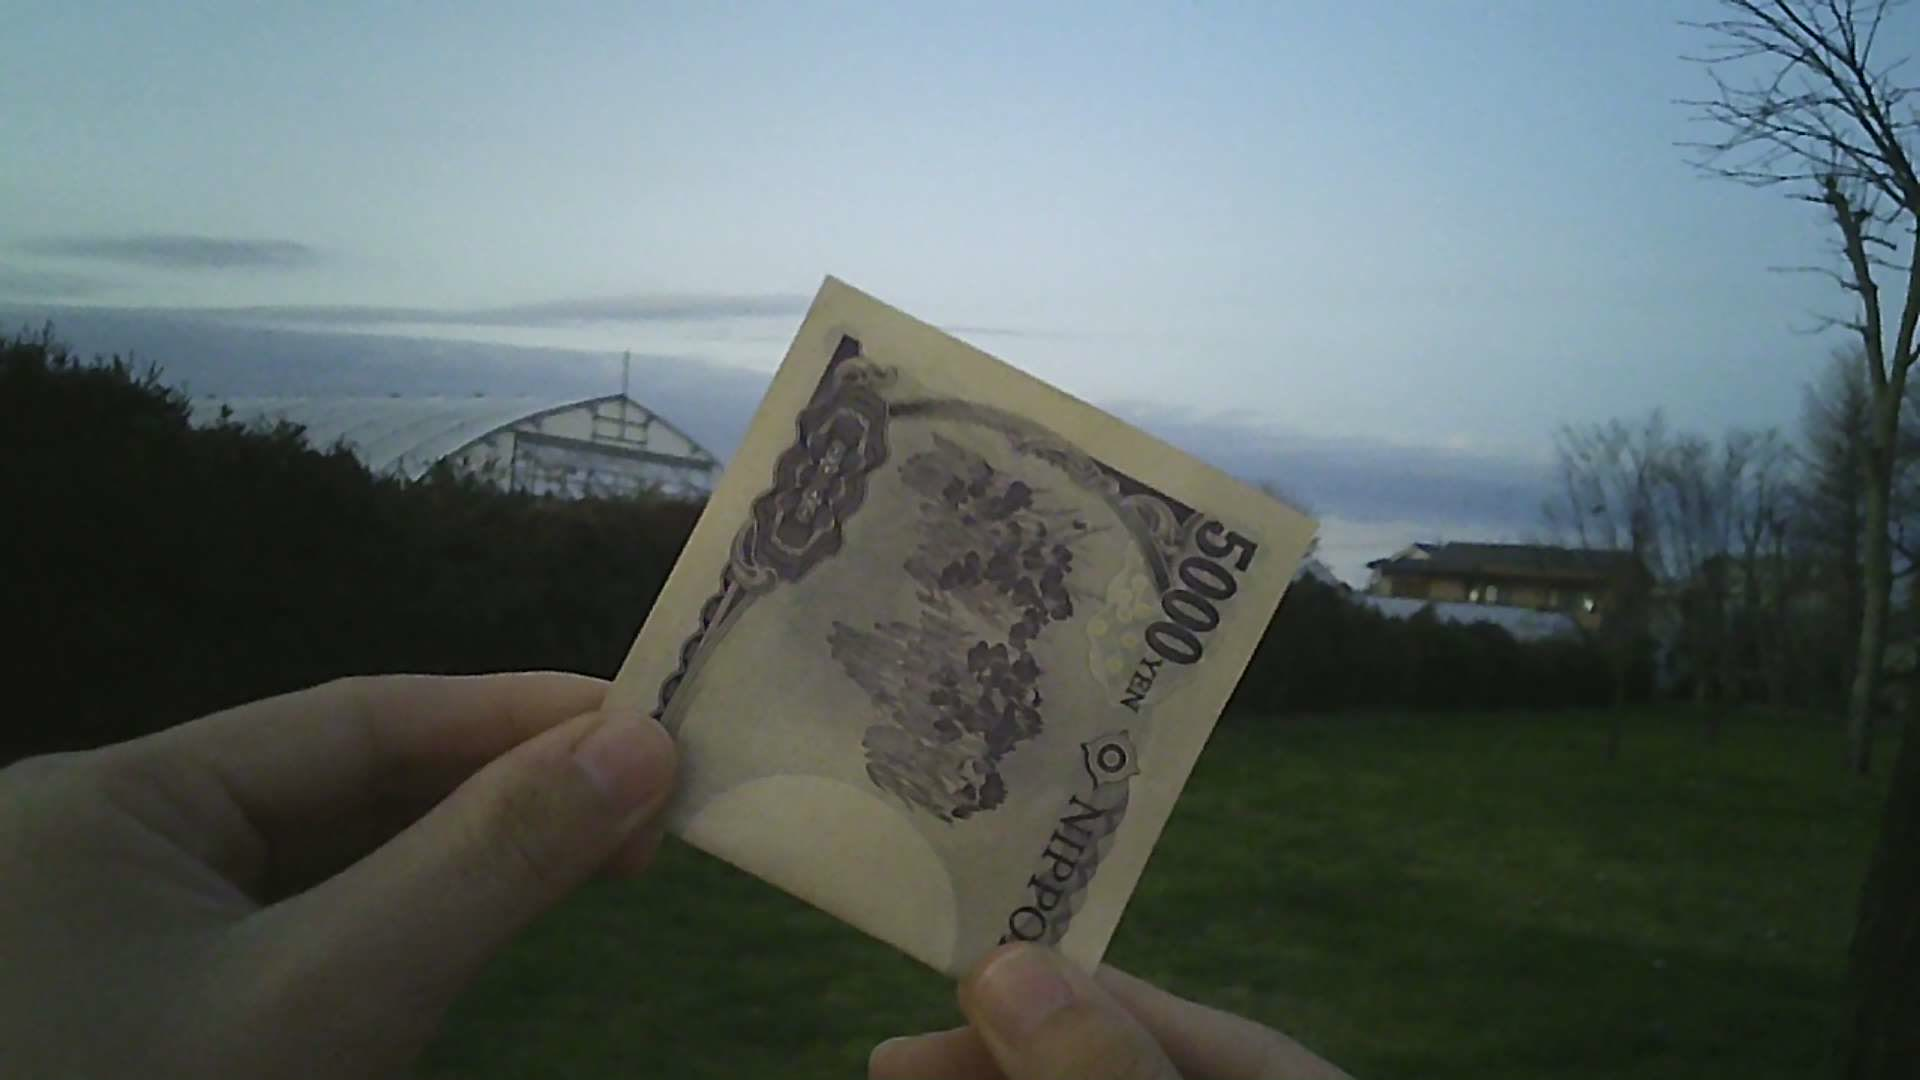5,000 Yen: (592, 274, 1308, 1006)
